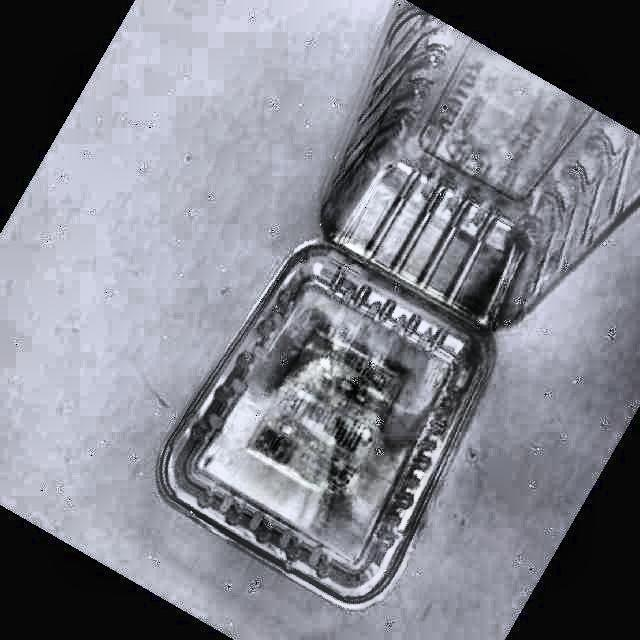plastic: (160, 2, 640, 607)
